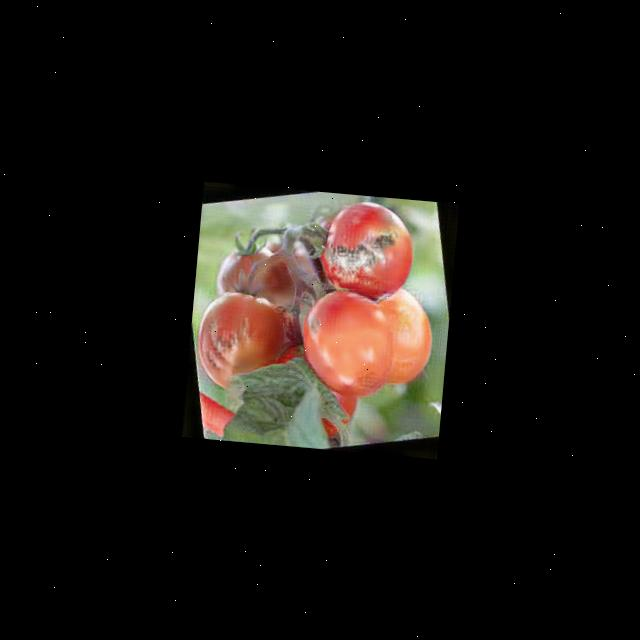tomato: (298, 288, 397, 397), (318, 200, 416, 296), (197, 288, 284, 392)
